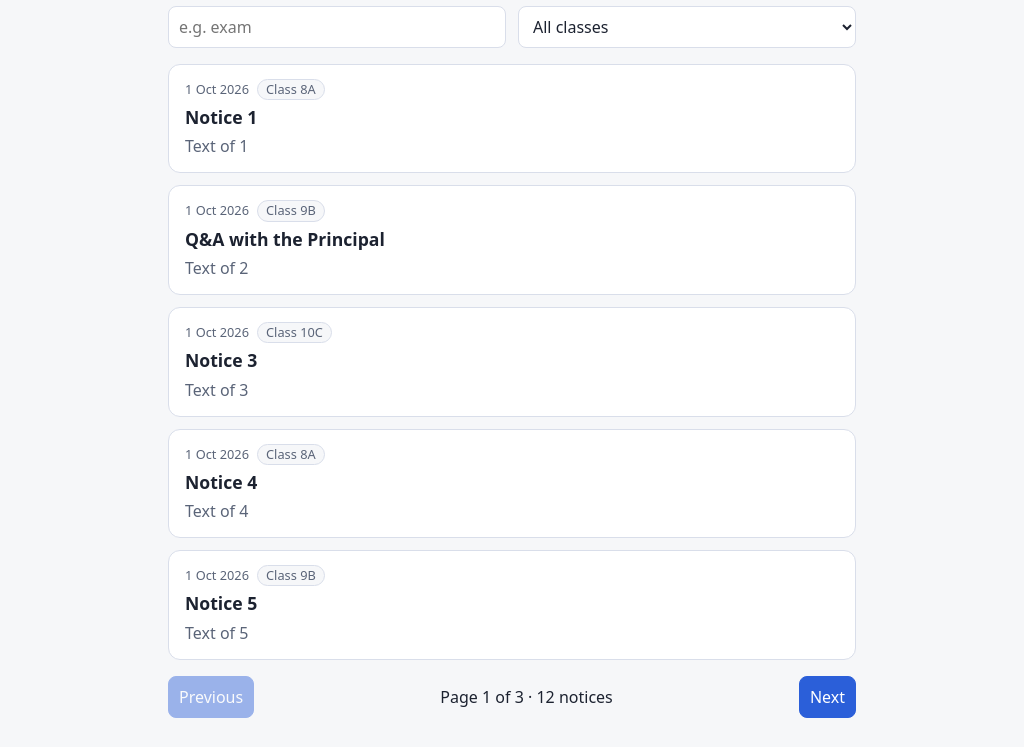
Test: class filter › changing the class while on page 2 goes back to page 1
(page scrolled)
Click the button "Next" at {"x": 827, "y": 697}, box [799,676,856,718]
(page scrolled)
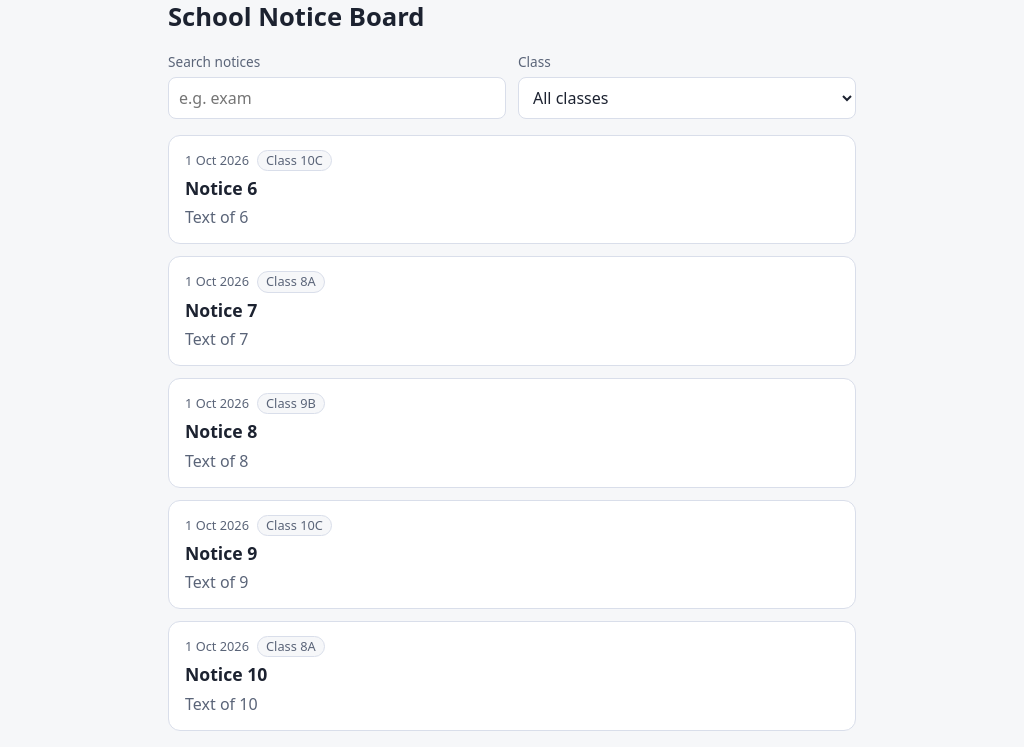
Select "Class 8A" in the dropdown labelled "Class" at {"x": 687, "y": 98}, box [518,77,856,119]
(page scrolled)
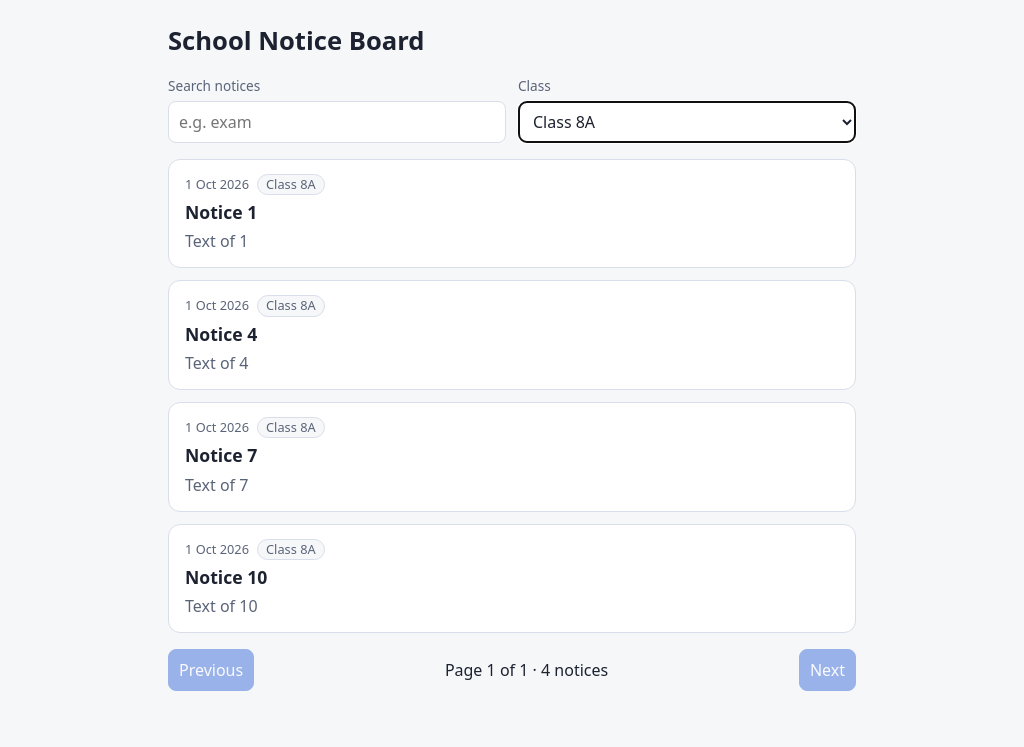
Check: the text "Page 1 of 1 · 4 notices" is shown, box [445,658,608,682]
